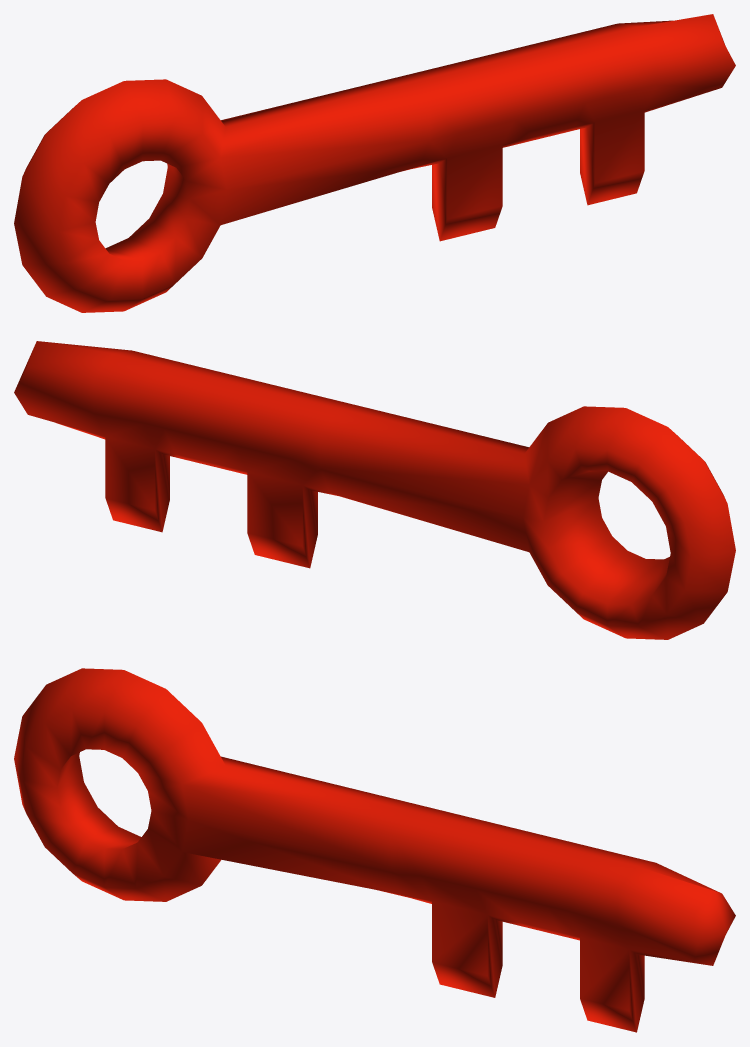
File: Key.fbx
3 views of the same model, one above another, from view 1: azimuth 30°, elevation 25°; view 2: azimuth 150°, elevation 25°; view 3: azimuth 330°, elevation 25° (orthographic).
Parts seen in each view (by area): view 1: Circle; view 2: Circle; view 3: Circle.
Boxes of the visible parts, box(x1,y1,x2,y2) form: Circle: box(14, 14, 735, 312); Circle: box(14, 341, 735, 639); Circle: box(14, 668, 735, 1032).
Size of the model in its own units: 6471 by 2061 by 604.
